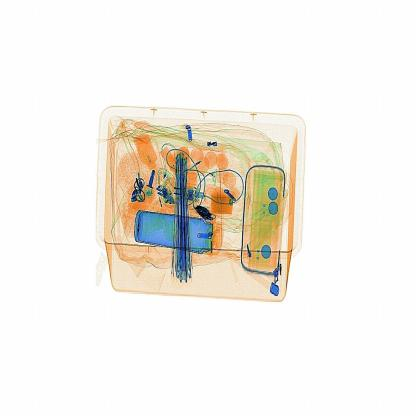scissors: (193, 195, 214, 228)
